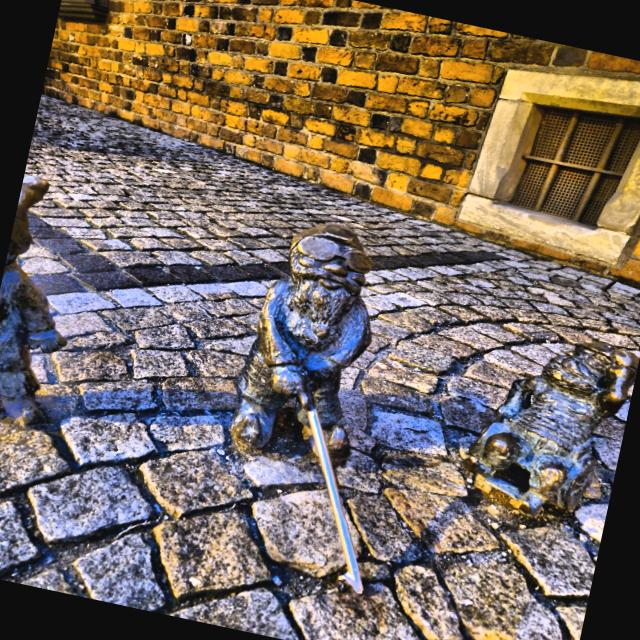Slepak: (229, 224, 371, 594)
W-Skers: (462, 341, 640, 513)
